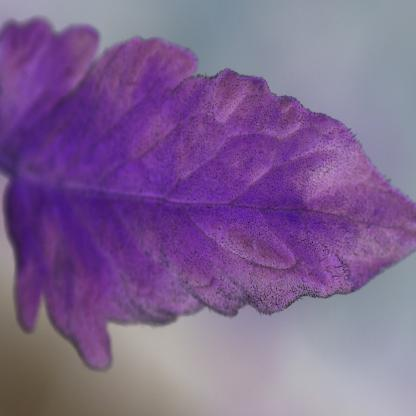tomato leaf mosaic virus: (6, 25, 410, 376)
